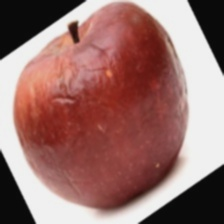apple: (4, 15, 187, 215)
